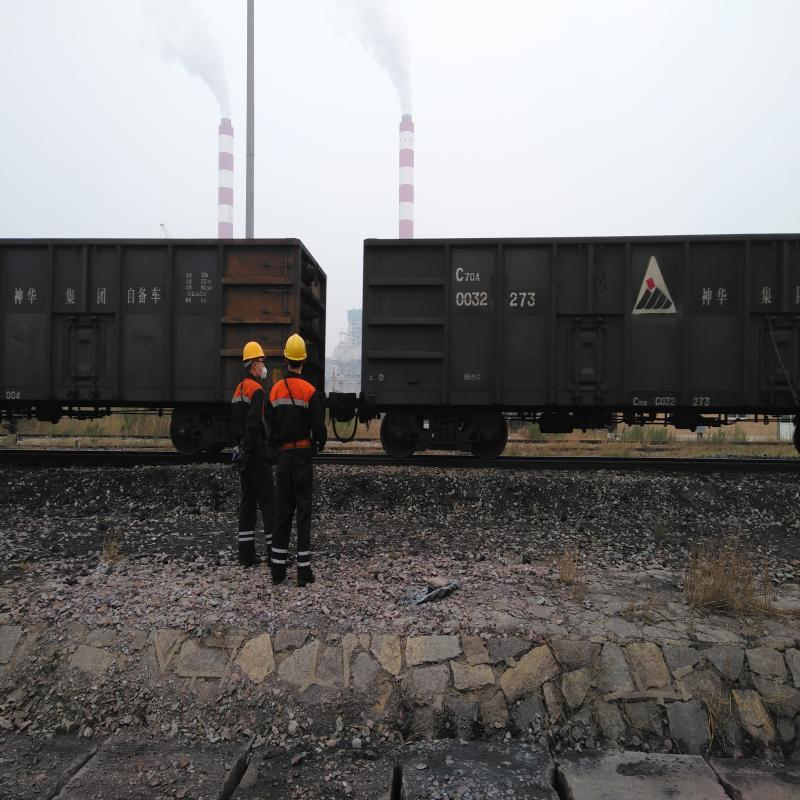train: (358, 234, 710, 462)
